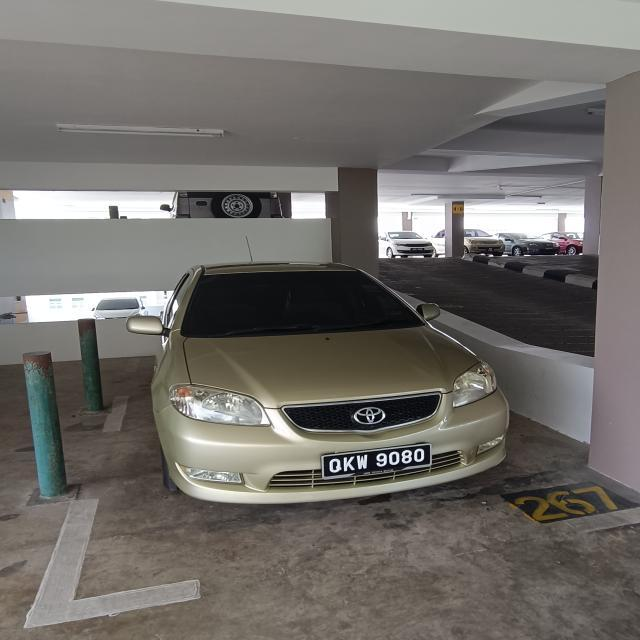ToyotaVios: (125, 260, 511, 505)
